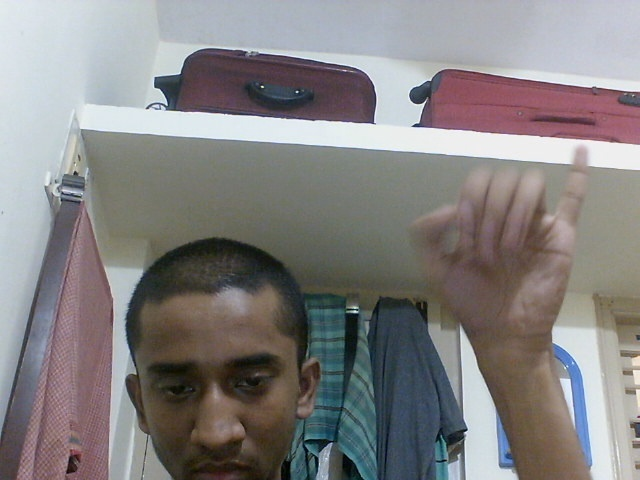hand: (400, 139, 594, 359)
